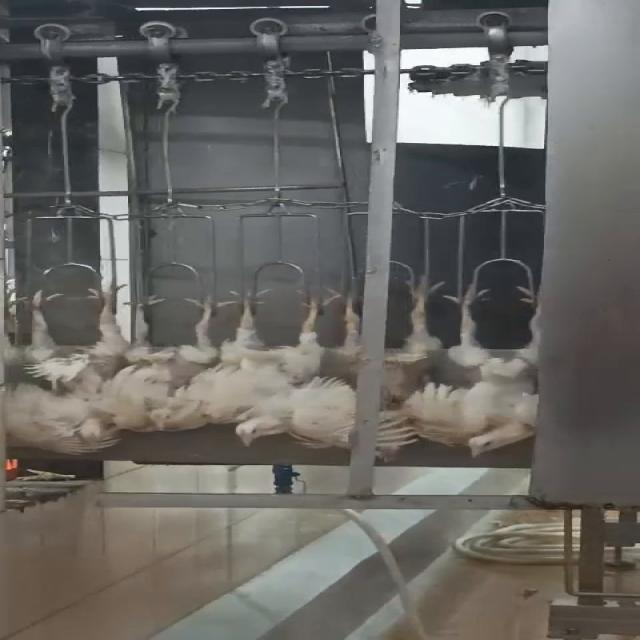chicken: (423, 274, 549, 462), (0, 280, 128, 460), (213, 286, 347, 449), (103, 283, 229, 437)
